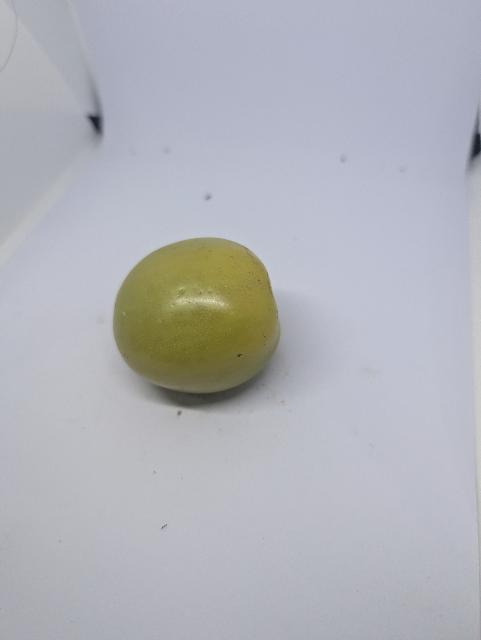breaker: (113, 238, 280, 393)
